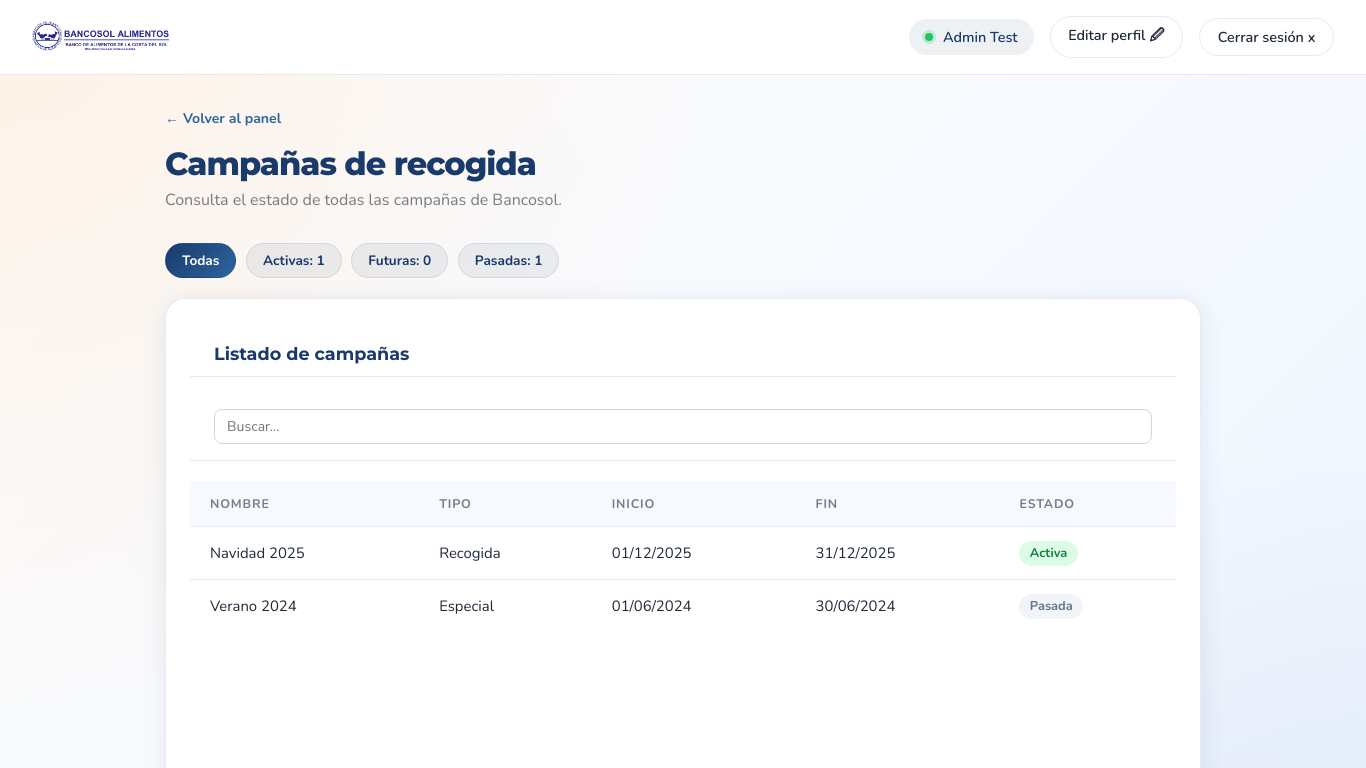
Scenario: Campaigns (ver campañas) › el buscador filtra por nombre
Check: the text "Navidad 2025" is shown, box [190, 526, 419, 579]
In the field with placeholder "Buscar...": (683, 427) [214, 409, 1152, 444], type "verano"
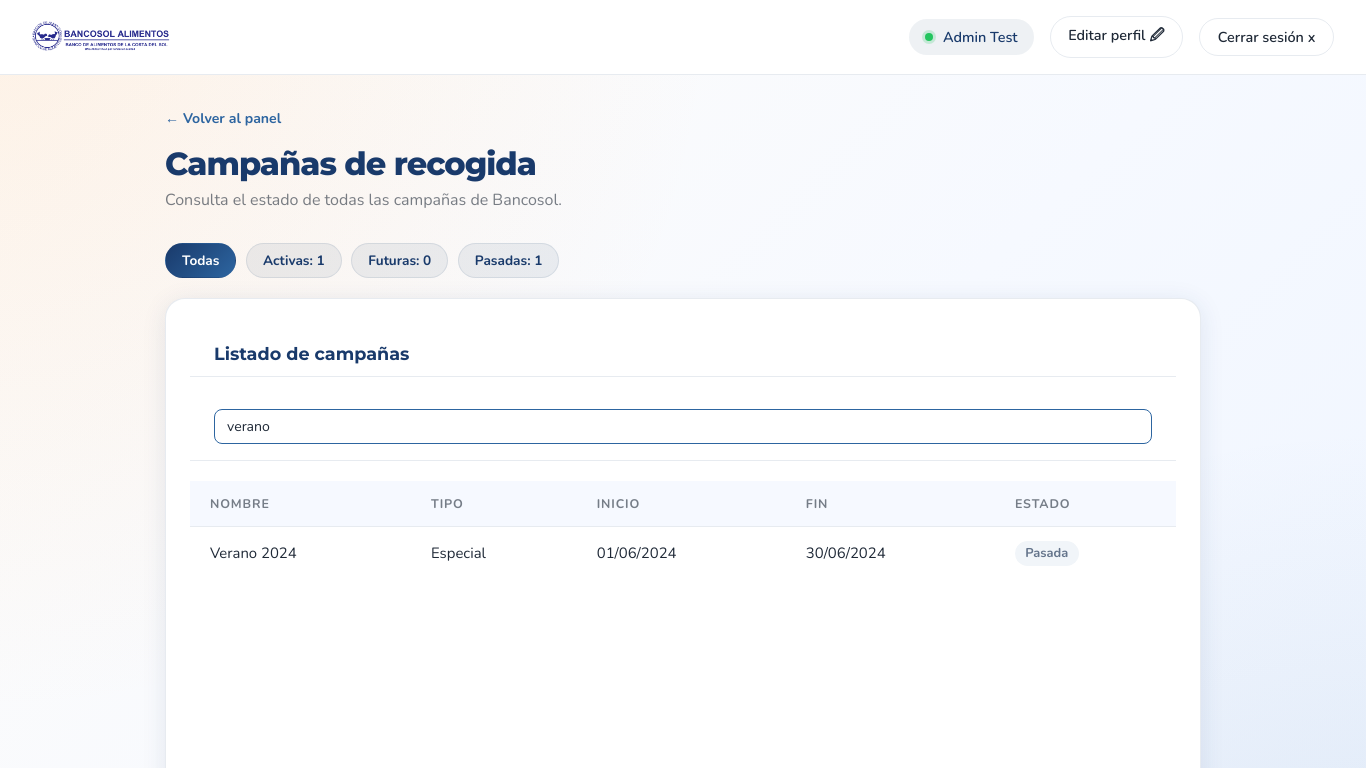
Check: the text "Verano 2024" is shown, box [190, 526, 411, 578]
Check: the text "Navidad 2025" is gone
